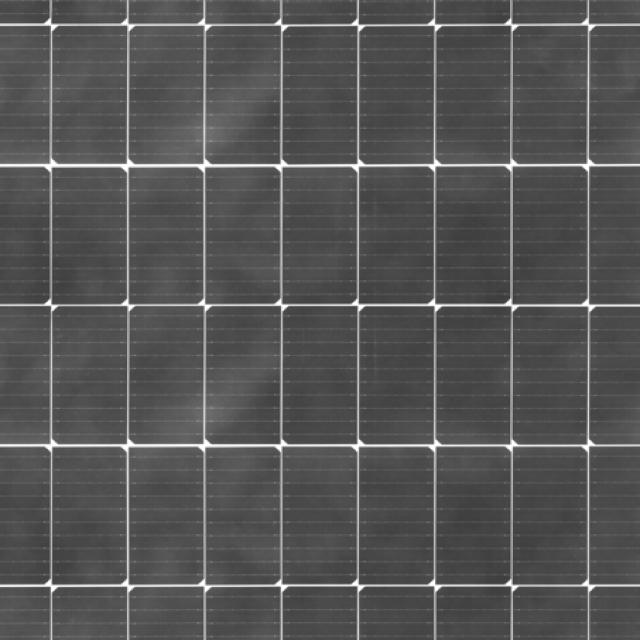CORRECT: (212, 0, 639, 637), (2, 0, 400, 640)
